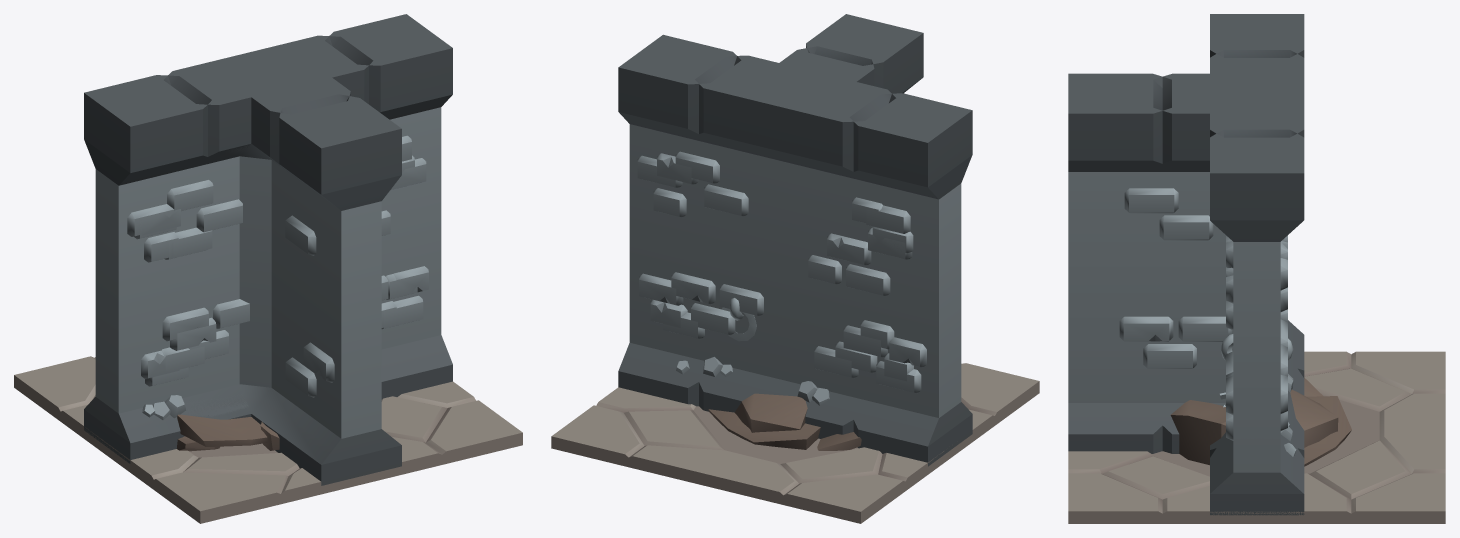
Rendered from dungeon_arch.glb.
The picture shows the model from 3 angles, left to right: view 1: azimuth 30°, elevation 25°; view 2: azimuth 150°, elevation 25°; view 3: azimuth 270°, elevation 25°; orthographic projection. The views are drawn at different scales.
Parts seen in each view (by area): view 1: wall_corner, wall, wall_doorway, floor_tile_large_rocks, wall_broken; view 2: wall, wall_doorway, floor_tile_large_rocks, wall_broken, wall_corner, wall_doorway_door; view 3: wall_corner, wall, floor_tile_large_rocks, wall_doorway, wall_broken.
Boxes of the visible parts, bbox=[...] form: wall_corner: bbox=[84, 54, 401, 485]; wall: bbox=[84, 14, 452, 463]; wall_doorway: bbox=[85, 14, 452, 462]; floor_tile_large_rocks: bbox=[14, 356, 522, 523]; wall_broken: bbox=[96, 108, 440, 420]; wall: bbox=[618, 34, 972, 466]; wall_doorway: bbox=[620, 45, 972, 449]; floor_tile_large_rocks: bbox=[551, 363, 1039, 523]; wall_broken: bbox=[629, 153, 971, 414]; wall_corner: bbox=[757, 14, 972, 465]; wall_doorway_door: bbox=[722, 298, 756, 341]; wall_corner: bbox=[1068, 54, 1303, 453]; wall: bbox=[1210, 14, 1304, 515]; floor_tile_large_rocks: bbox=[1068, 351, 1445, 523]; wall_doorway: bbox=[1210, 14, 1304, 515]; wall_broken: bbox=[1213, 221, 1296, 493].
Size of the model in its own units: 4 by 4.38 by 4.
1 material, 1 textured.
